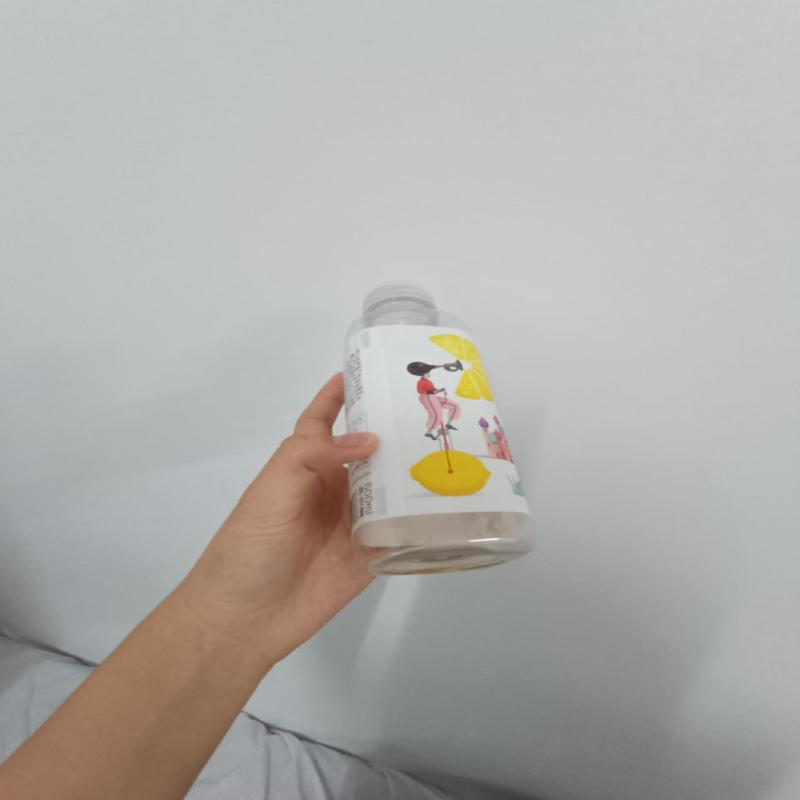botella: (336, 279, 541, 584)
